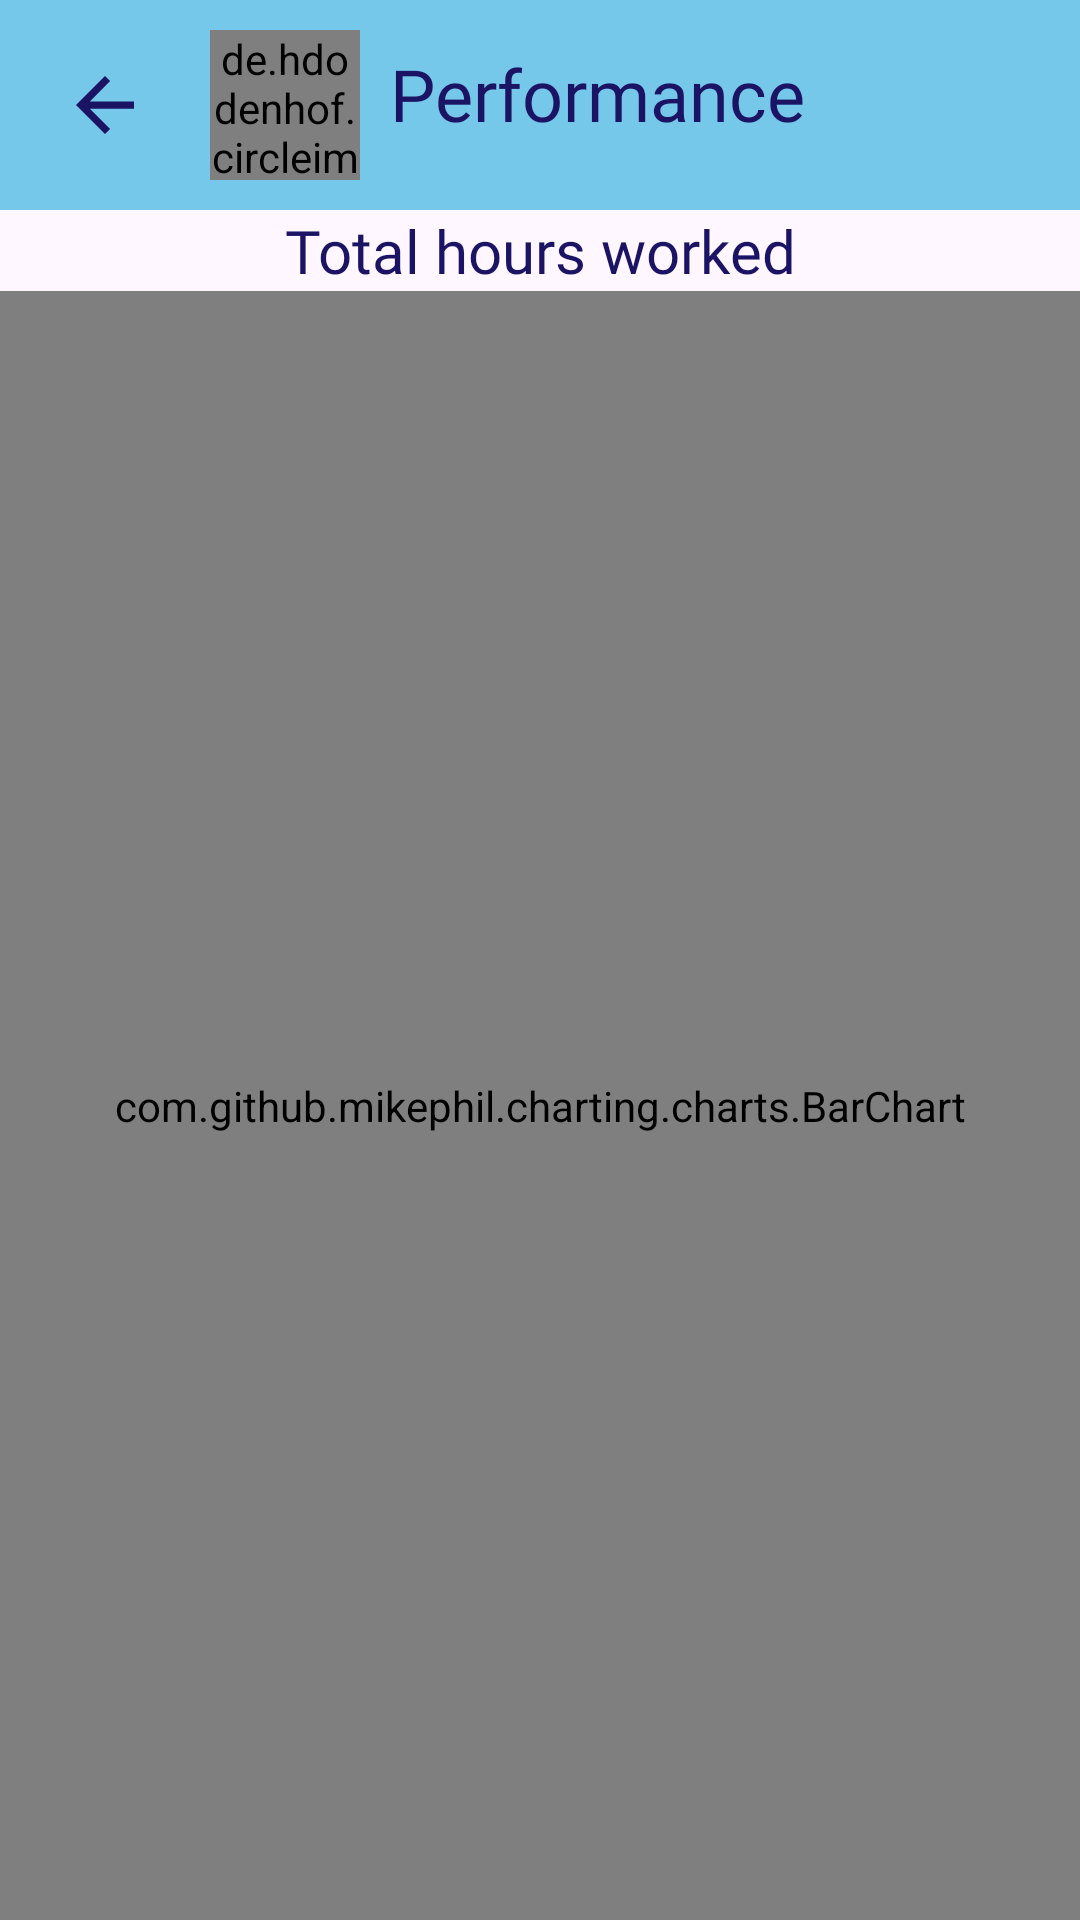

Where to tap for icons on this 1080w x 1920h app screen, as (x,y):
back: (105,105)
